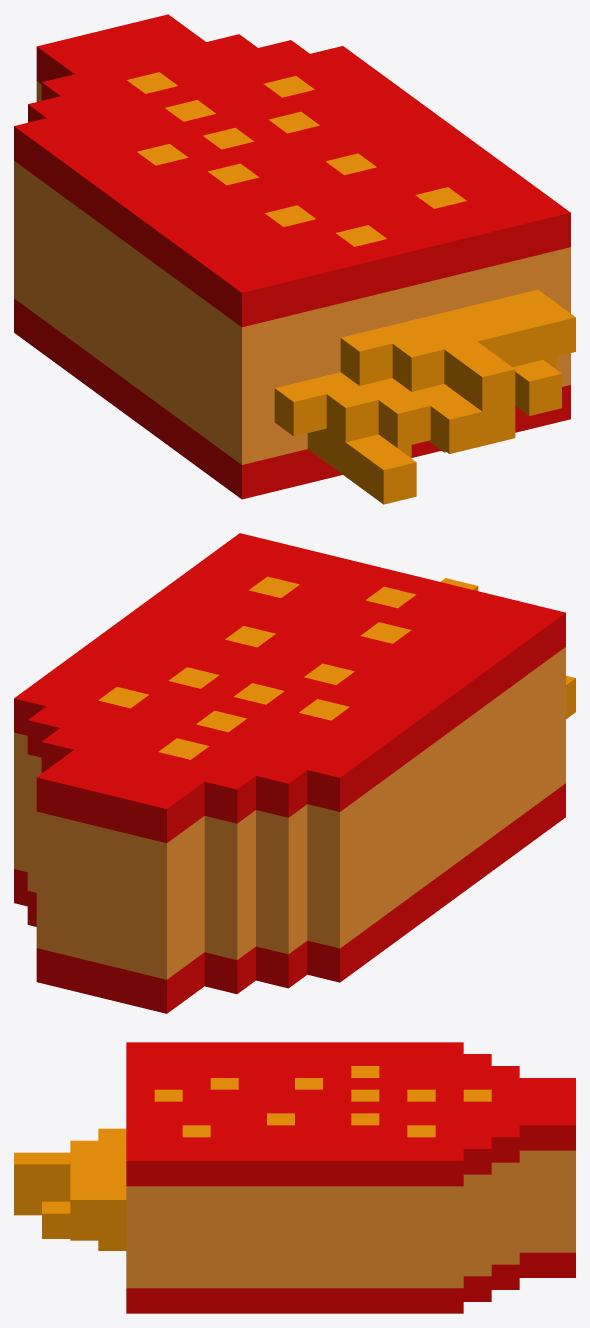
Rendered from foxbullet.obj.
3 views of the same model, one above another, from view 1: azimuth 30°, elevation 25°; view 2: azimuth 150°, elevation 25°; view 3: azimuth 270°, elevation 25° (orthographic). The views are drawn at different scales.
Parts seen in each view (by area): view 1: foxbullet; view 2: foxbullet; view 3: foxbullet.
Boxes of the visible parts, x1=… form: foxbullet: x1=14, y1=14, x2=575, y2=504; foxbullet: x1=14, y1=533, x2=575, y2=1013; foxbullet: x1=14, y1=1042, x2=575, y2=1313.
Size of the model in its own units: 10 by 6 by 20.
Materials: 1 (1 with a texture image).
